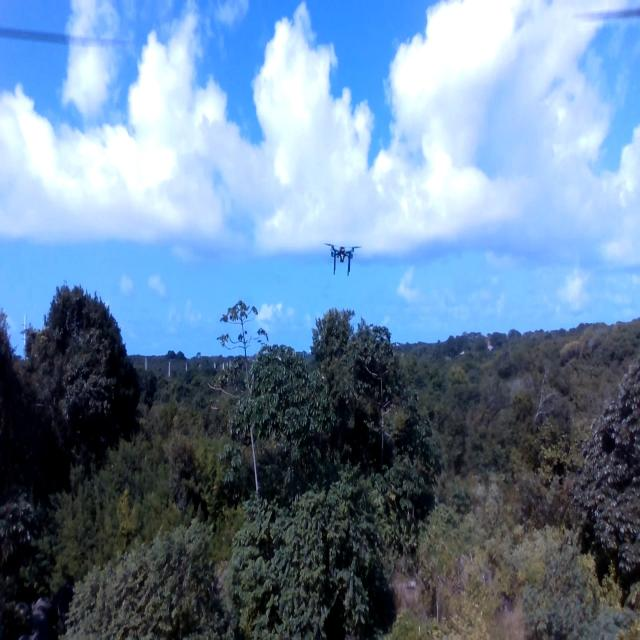-uav-: (316, 230, 366, 293)
